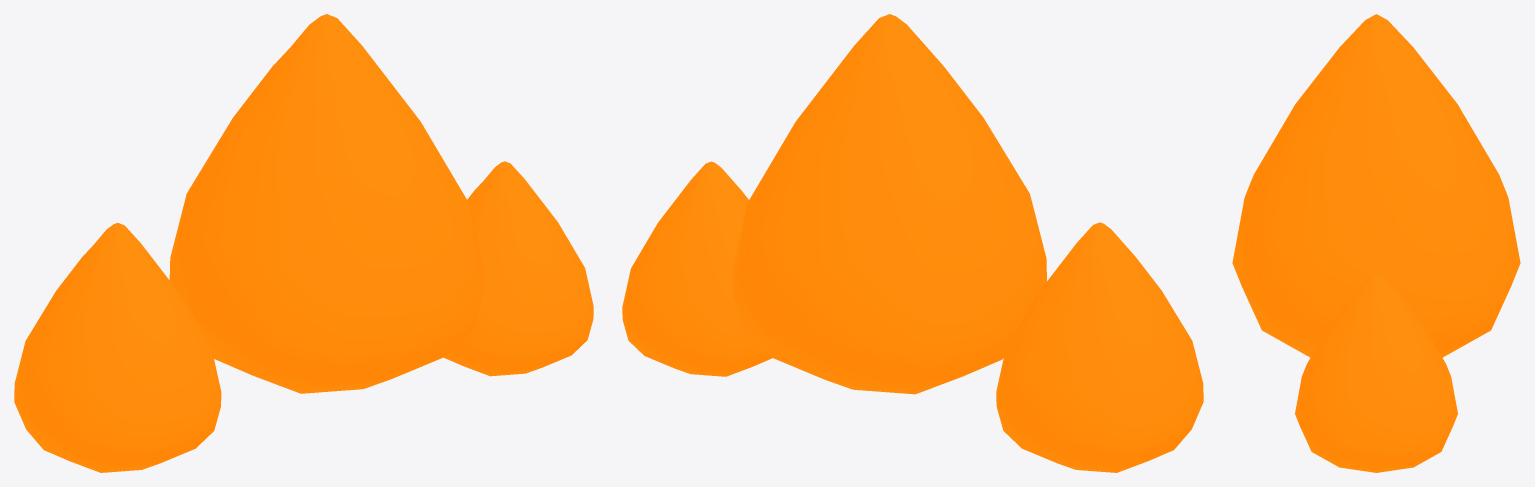
Rendered from fire.fbx.
3 renders of one model, left to right at view 1: azimuth 30°, elevation 25°; view 2: azimuth 150°, elevation 25°; view 3: azimuth 270°, elevation 25°, orthographic. The views are drawn at different scales.
Visible parts, largest first — view 1: fire3, fire2, fire1; view 2: fire3, fire2, fire1; view 3: fire3, fire1.
Part boxes in pixels (bbox=[...]): fire3: bbox=[169, 14, 483, 393]; fire2: bbox=[14, 222, 221, 472]; fire1: bbox=[444, 161, 593, 376]; fire3: bbox=[732, 14, 1046, 394]; fire2: bbox=[996, 222, 1203, 472]; fire1: bbox=[622, 161, 772, 376]; fire3: bbox=[1232, 14, 1520, 357]; fire1: bbox=[1295, 273, 1457, 472].
Size of the model in its own units: 234 by 160 by 114.
